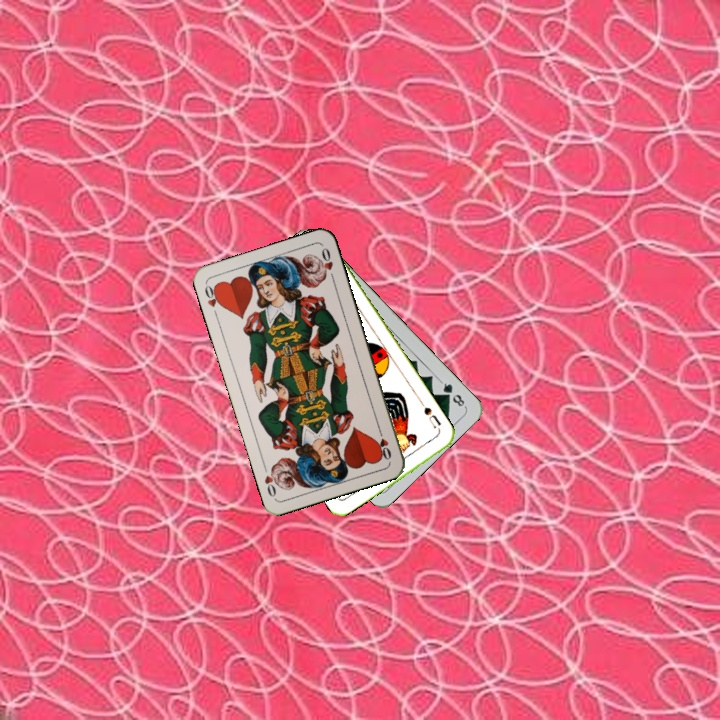G8: (436, 377, 468, 410)
HO: (374, 423, 394, 463), (201, 280, 225, 310)
SU: (420, 403, 444, 431)
